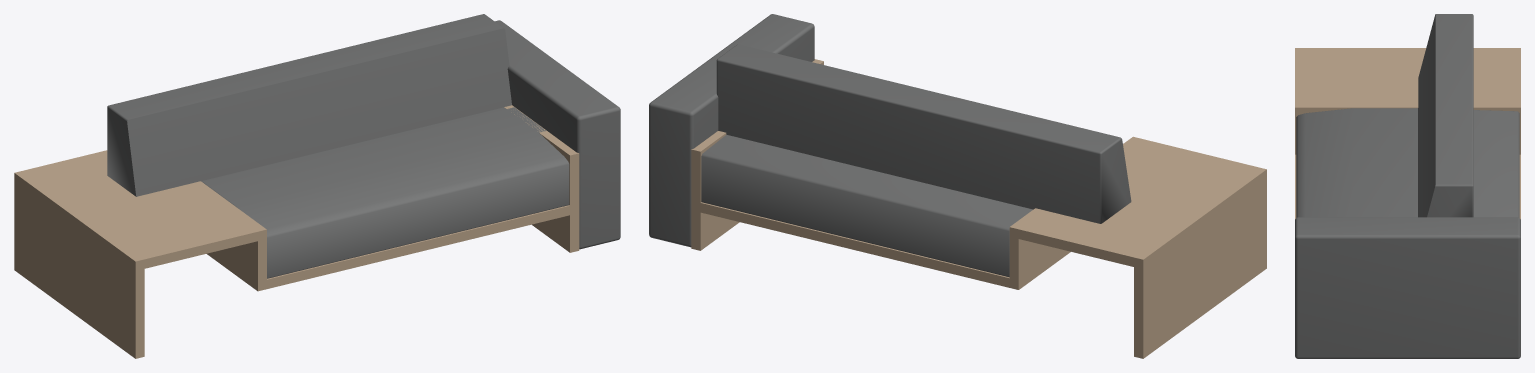
3 views of the same model, side by side, from view 1: azimuth 30°, elevation 25°; view 2: azimuth 150°, elevation 25°; view 3: azimuth 270°, elevation 25° (orthographic). The views are drawn at different scales.
Visible parts, largest first — view 1: sofa; view 2: sofa; view 3: sofa.
Part boxes in pixels (x1,y1,x2,y2): sofa: [14, 14, 620, 358]; sofa: [649, 14, 1266, 358]; sofa: [1295, 14, 1520, 358].
Size of the model in its own units: 2.2 by 0.7235 by 0.95.
